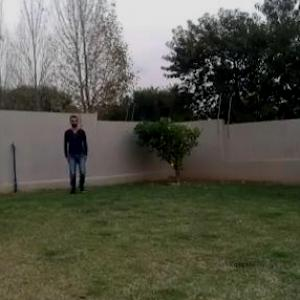follow: (68, 118, 87, 194)
